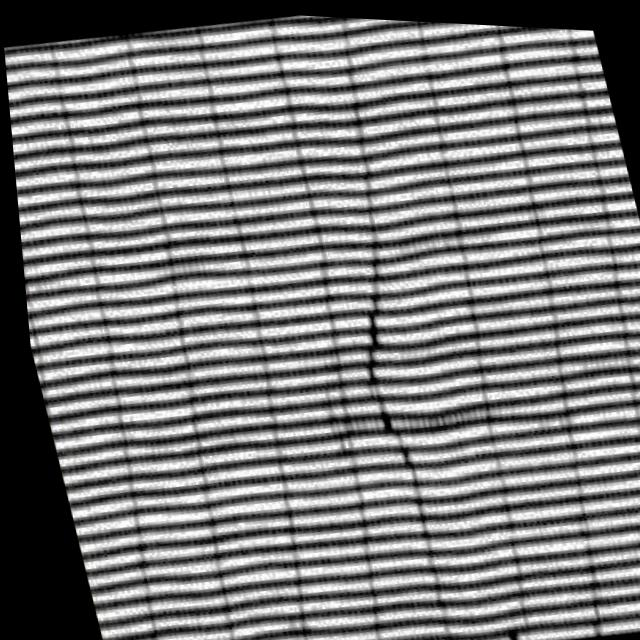Stitch: (299, 226, 449, 498)
